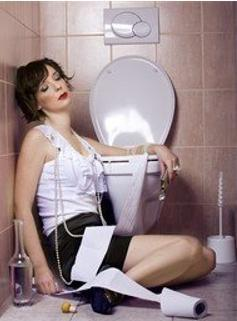Drunk: (35, 65, 72, 109)
